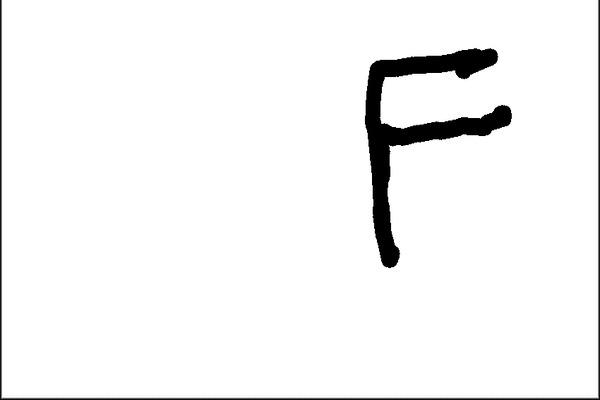F: (358, 43, 516, 271)
